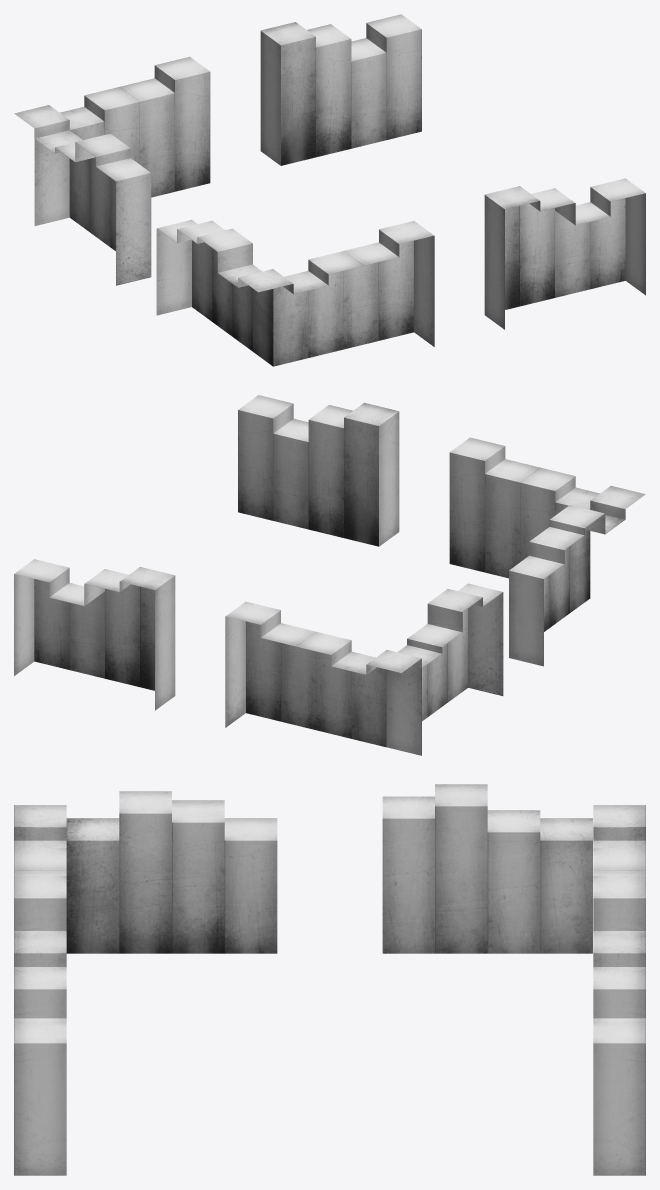
Rendered from Pared.obj.
3 views of the same model, one above another, from view 1: azimuth 30°, elevation 25°; view 2: azimuth 150°, elevation 25°; view 3: azimuth 270°, elevation 25° (orthographic). The views are drawn at different scales.
Parts seen in each view (by area): view 1: Plane.005_Plane.006; view 2: Plane.005_Plane.006; view 3: Plane.005_Plane.006.
Part boxes in pixels (box(x1,y1,x2,y2)): Plane.005_Plane.006: box(14, 14, 645, 366); Plane.005_Plane.006: box(14, 395, 645, 755); Plane.005_Plane.006: box(14, 784, 645, 1175).
Size of the model in its own units: 10.91 by 3.24 by 11.92.
